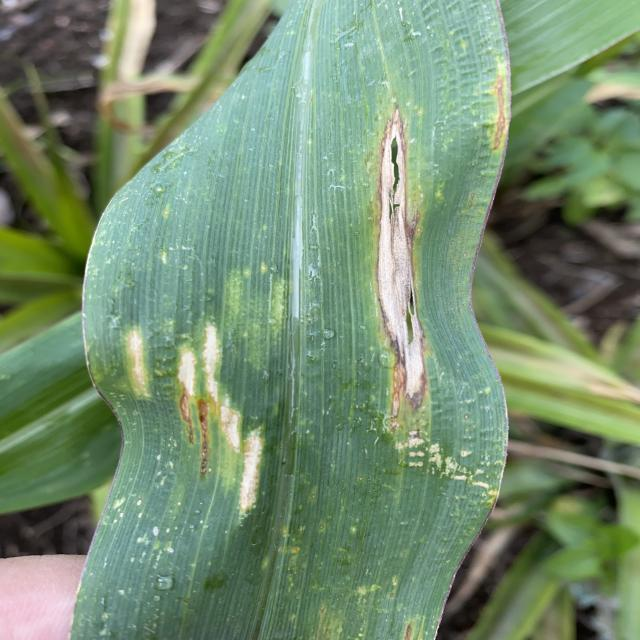Corn_Leaf_Blight: (78, 0, 522, 640)
